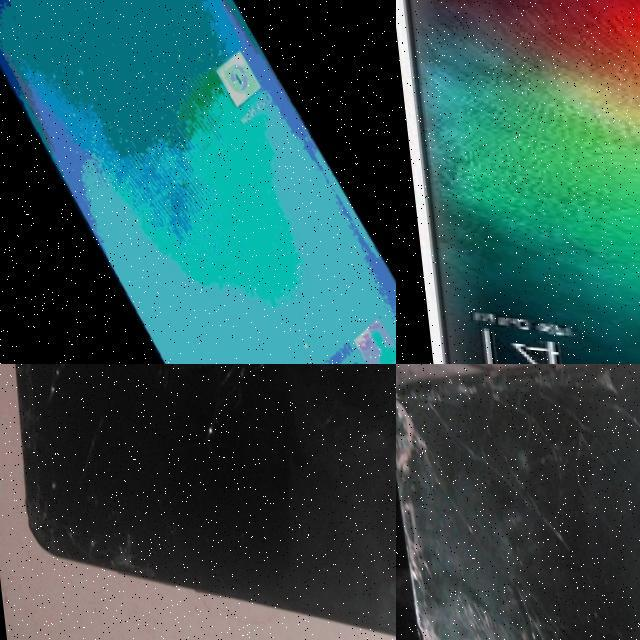screen crack: (396, 364, 537, 640), (0, 364, 85, 558)
